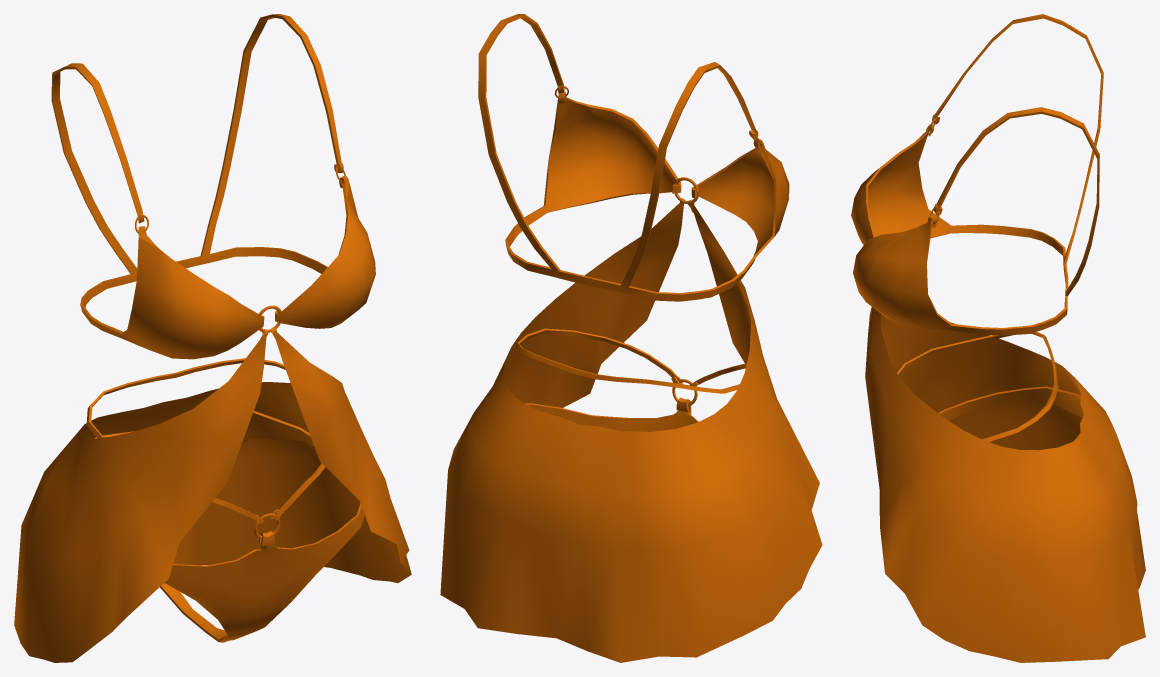
The model's file is calcinhafem4.glb.
3 views of the same model, side by side, from view 1: azimuth 30°, elevation 25°; view 2: azimuth 150°, elevation 25°; view 3: azimuth 270°, elevation 25° (orthographic). The views are drawn at different scales.
Visible parts, largest first — view 1: hash_0E4F123C.model; view 2: hash_0E4F123C.model; view 3: hash_0E4F123C.model.
Boxes of the visible parts, x1,y1,x2,y2 form: hash_0E4F123C.model: (14, 14, 411, 662); hash_0E4F123C.model: (440, 14, 822, 662); hash_0E4F123C.model: (851, 14, 1145, 662).
Size of the model in its own units: 0.4204 by 0.7012 by 0.3452.
